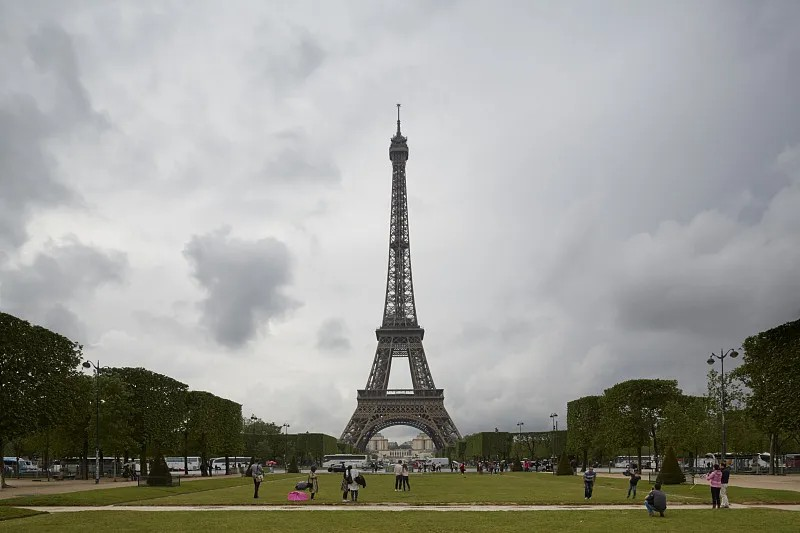Eiffel: (337, 104, 462, 459)
